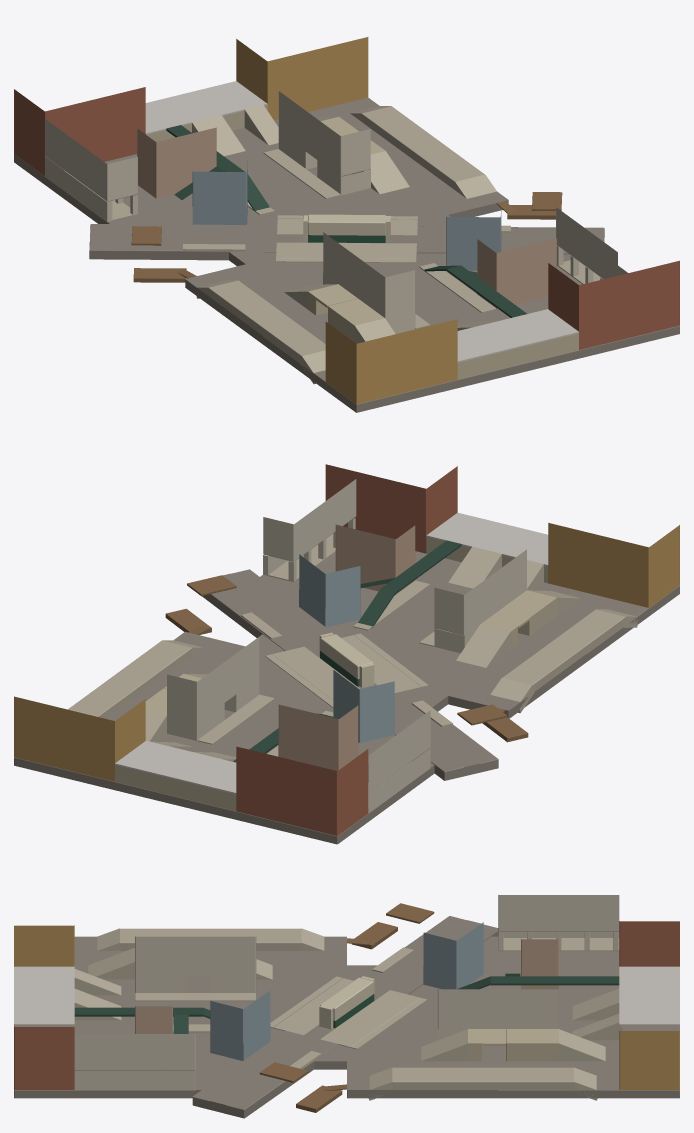
Rendered from crossmarket_zones_level.glb.
The picture shows the model from 3 angles, top to bottom: view 1: azimuth 30°, elevation 25°; view 2: azimuth 150°, elevation 25°; view 3: azimuth 270°, elevation 25°; orthographic projection. The views are drawn at different scales.
Parts seen in each view (by area): view 1: PaintableStage; view 2: PaintableStage; view 3: PaintableStage.
Part boxes in pixels (x1,y1,x2,y2): PaintableStage: (14,37,679,412); PaintableStage: (14,464,679,844); PaintableStage: (14,895,679,1118).
Bounding box in the file's own units: 60.64 × 11.97 × 88.
